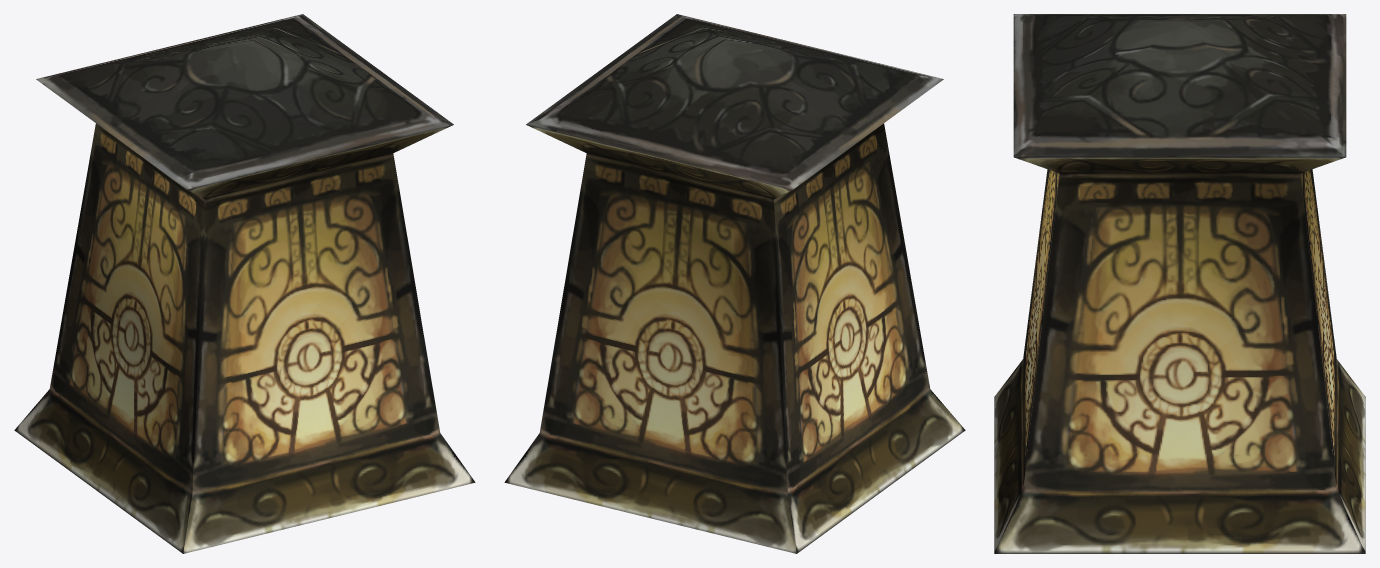
Rendered from lantern.fbx.
The picture shows the model from 3 angles, left to right: view 1: azimuth 30°, elevation 25°; view 2: azimuth 150°, elevation 25°; view 3: azimuth 270°, elevation 25°; orthographic projection. The views are drawn at different scales.
Parts seen in each view (by area): view 1: lantern; view 2: lantern; view 3: lantern.
Boxes of the visible parts, x1=… form: lantern: x1=14, y1=14, x2=475, y2=553; lantern: x1=504, y1=14, x2=965, y2=553; lantern: x1=994, y1=14, x2=1365, y2=553.
Bounding box in the file's own units: 12.29 × 16.51 × 12.29.
